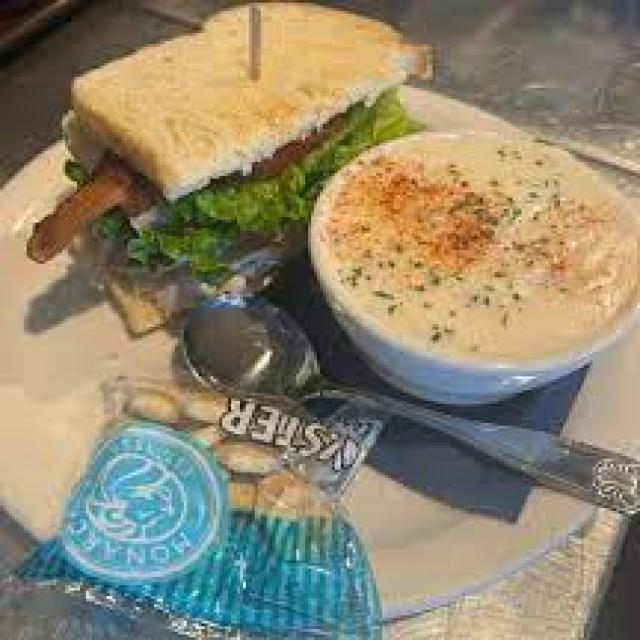Sandwich: (39, 0, 401, 318)
